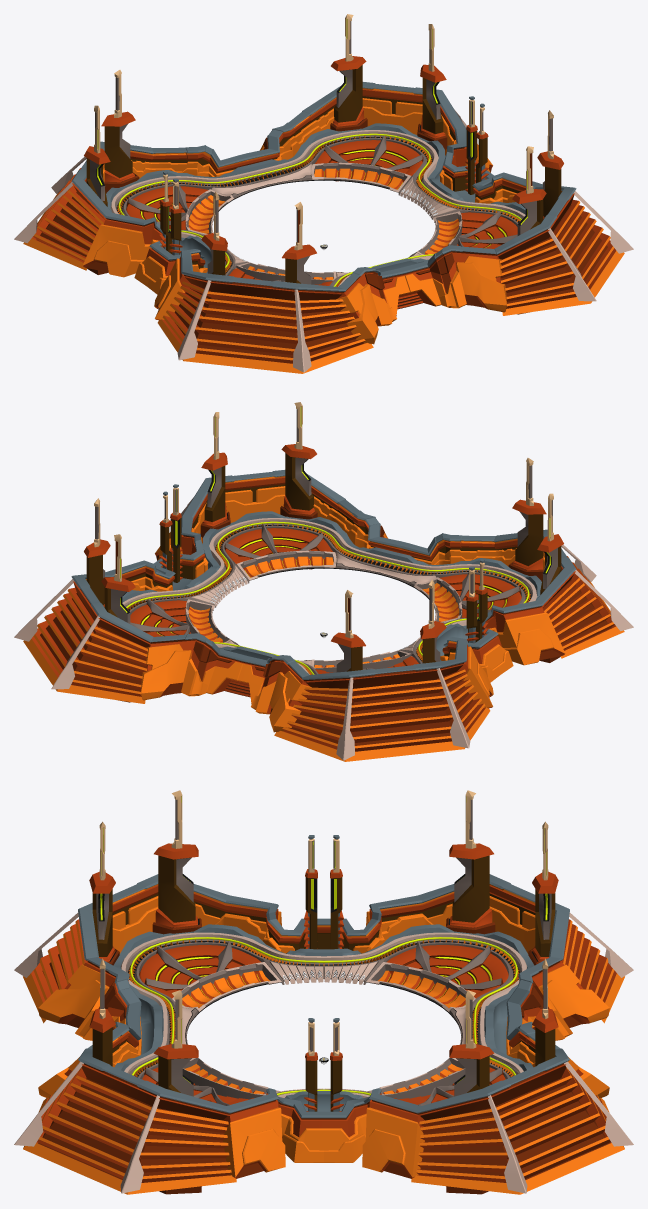
The model's file is arena_hypersphere.fbx.
The picture shows the model from 3 angles, top to bottom: view 1: azimuth 30°, elevation 25°; view 2: azimuth 150°, elevation 25°; view 3: azimuth 270°, elevation 25°; orthographic projection. The views are drawn at different scales.
Visible parts, largest first — view 1: Outerwall, Grills, Posts, InnerWall, InnerFrame, Details, Rail, Rail_Frame, Ramp; view 2: Outerwall, Grills, Posts, InnerWall, InnerFrame, Details, Rail, Rail_Frame, Ramp; view 3: Outerwall, Grills, Posts, InnerWall, InnerFrame, Details, Rail, Ramp, Rail_Frame.
Part boxes in pixels (box(x1,y1,x2,y2)): Outerwall: box(71, 82, 576, 344); Grills: box(14, 109, 633, 373); Posts: box(84, 14, 563, 314); InnerWall: box(106, 123, 525, 286); InnerFrame: box(185, 162, 462, 284); Details: box(126, 135, 517, 285); Rail: box(118, 133, 521, 286); Rail_Frame: box(117, 136, 520, 286); Ramp: box(182, 173, 468, 269); Outerwall: box(71, 470, 576, 732); Grills: box(14, 497, 633, 761); Posts: box(84, 402, 563, 702); InnerWall: box(122, 511, 541, 674); InnerFrame: box(185, 550, 462, 672); Details: box(130, 523, 521, 673); Rail: box(126, 521, 529, 674); Rail_Frame: box(127, 524, 530, 674); Ramp: box(179, 561, 465, 657); Outerwall: box(38, 874, 609, 1178); Grills: box(14, 912, 633, 1194); Posts: box(89, 790, 558, 1194); InnerWall: box(113, 924, 534, 1111); InnerFrame: box(172, 962, 475, 1099); Details: box(139, 941, 508, 1105); Rail: box(130, 937, 517, 1095); Ramp: box(259, 958, 388, 1092); Rail_Frame: box(128, 939, 519, 1076).
Bounding box in the file's own units: 44.54 × 15.05 × 42.85.
7 materials, 2 textured.
